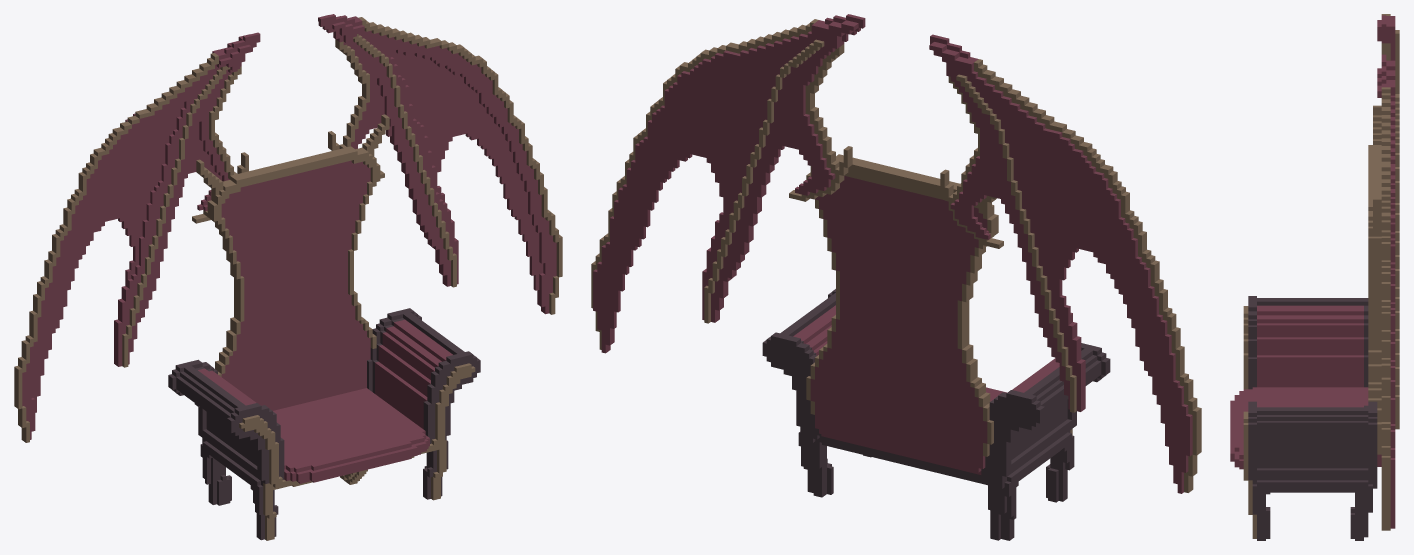
Rendered from Trono_2.obj.
3 views of the same model, side by side, from view 1: azimuth 30°, elevation 25°; view 2: azimuth 150°, elevation 25°; view 3: azimuth 270°, elevation 25° (orthographic). The views are drawn at different scales.
Size of the model in its own units: 14.4 by 11.3 by 3.8.
Materials: 1 (1 with a texture image).
